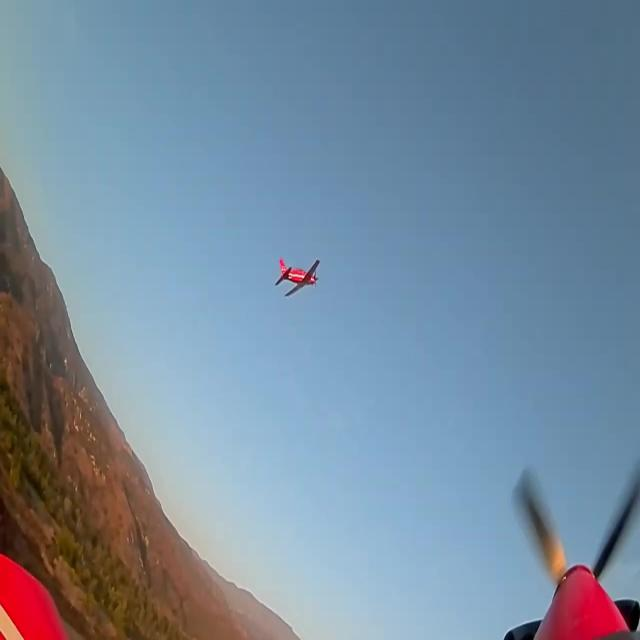iha: (275, 256, 320, 297)
